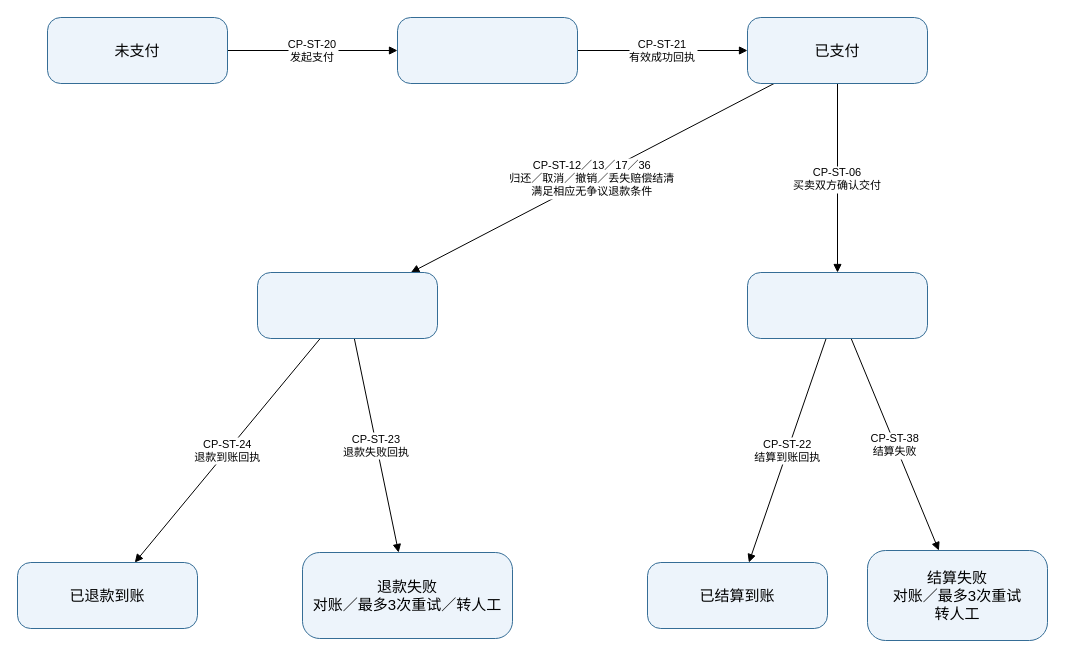
Some shapes in this 1065 by 658 pixel diagram are drawn without their labels. The centre of each missing label's shape, as x and y in pixels:
支付处理中: (487,50)
结算处理中: (837,305)
退款处理中: (347,305)
